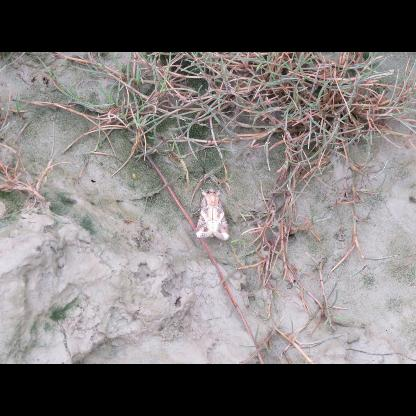Fall Armyworm Moth: (191, 186, 231, 242)
